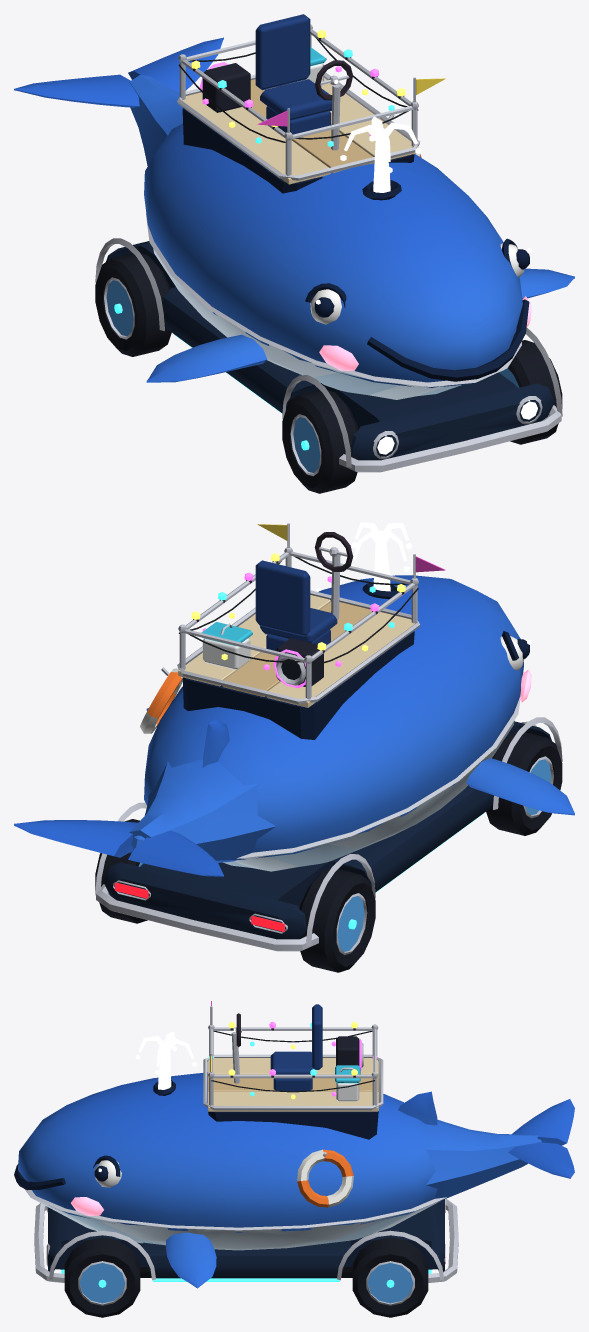
File: whale_of_a_time_lo.glb
3 views of the same model, one above another, from view 1: azimuth 30°, elevation 25°; view 2: azimuth 150°, elevation 25°; view 3: azimuth 270°, elevation 25° (orthographic). The views are drawn at different scales.
Visible parts, largest first — view 1: body_blue, chassis, wheel_RR_tyre, wheel_FR_tyre, seat_back, plank_0, flipperR_fin, bumper_1, tail_stock, fluke_0, deck_skirt, smile (+20 smaller); view 2: body_blue, chassis, tail_stock, deck_skirt, wheel_RR_tyre, seat_back, plank_0, flipperR_fin, wheel_FR_tyre, fluke_1, bumper_0, fluke_0 (+21 smaller); view 3: body_blue, chassis, tail_stock, belly_6, wheel_FL_tyre, wheel_RL_tyre, deck_skirt, plank_2, flipperL_fin, deck_edge, fluke_0, waterline (+27 smaller).
Boxes of the visible parts, x1=… form: body_blue: x1=144, y1=123, x2=522, y2=387; chassis: x1=106, y1=241, x2=553, y2=460; wheel_RR_tyre: x1=95, y1=253, x2=171, y2=356; wheel_FR_tyre: x1=282, y1=390, x2=358, y2=493; seat_back: x1=255, y1=14, x2=310, y2=90; plank_0: x1=178, y1=92, x2=330, y2=184; flipperR_fin: x1=146, y1=334, x2=267, y2=382; bumper_1: x1=339, y1=405, x2=561, y2=472; tail_stock: x1=129, y1=75, x2=182, y2=165; fluke_0: x1=14, y1=74, x2=139, y2=107; deck_skirt: x1=182, y1=108, x2=414, y2=193; smile: x1=367, y1=299, x2=529, y2=381; body_blue: x1=144, y1=575, x2=523, y2=858; chassis: x1=104, y1=721, x2=551, y2=939; tail_stock: x1=129, y1=759, x2=276, y2=862; deck_skirt: x1=182, y1=631, x2=414, y2=739; wheel_RR_tyre: x1=299, y1=869, x2=375, y2=972; seat_back: x1=255, y1=560, x2=310, y2=636; plank_0: x1=266, y1=612, x2=419, y2=707; flipperR_fin: x1=466, y1=758, x2=574, y2=815; wheel_FR_tyre: x1=486, y1=732, x2=562, y2=835; fluke_1: x1=14, y1=820, x2=137, y2=857; bumper_0: x1=96, y1=884, x2=318, y2=951; fluke_0: x1=128, y1=830, x2=223, y2=876; body_blue: x1=18, y1=1072, x2=437, y2=1232; chassis: x1=48, y1=1199, x2=444, y2=1278; tail_stock: x1=424, y1=1119, x2=537, y2=1203; belly_6: x1=92, y1=1217, x2=384, y2=1250; wheel_FL_tyre: x1=64, y1=1237, x2=140, y2=1317; wheel_RL_tyre: x1=352, y1=1237, x2=428, y2=1317; deck_skirt: x1=208, y1=1111, x2=378, y2=1139; plank_2: x1=207, y1=1091, x2=378, y2=1111; flipperL_fin: x1=166, y1=1232, x2=216, y2=1288; deck_edge: x1=203, y1=1054, x2=383, y2=1110; fluke_0: x1=512, y1=1099, x2=574, y2=1145; waterline: x1=24, y1=1189, x2=446, y2=1230.
Bounding box in the file's own units: 4.9 × 3.72 × 7.21.
